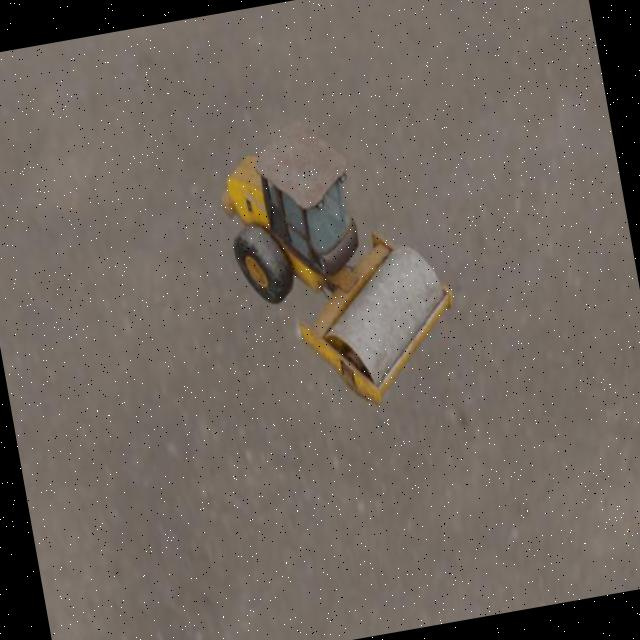Roller: (208, 96, 468, 428)
